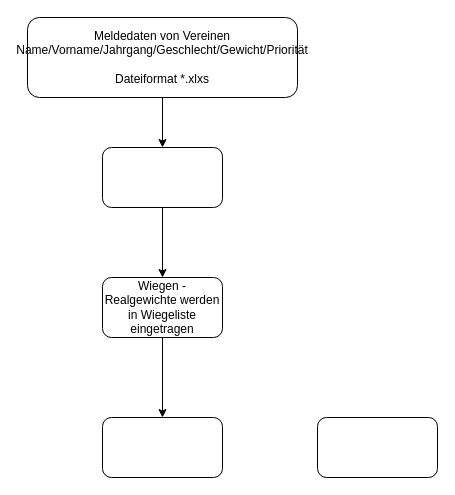
This 455x495 diagram has some shape labels left out. Each missing label, with the centre of its shape:
Wettkampfgruppen werden zugeordnet: (x=162, y=447)
Wiegeliste wird erstellt Dateiformat *.xlxs: (x=162, y=177)
